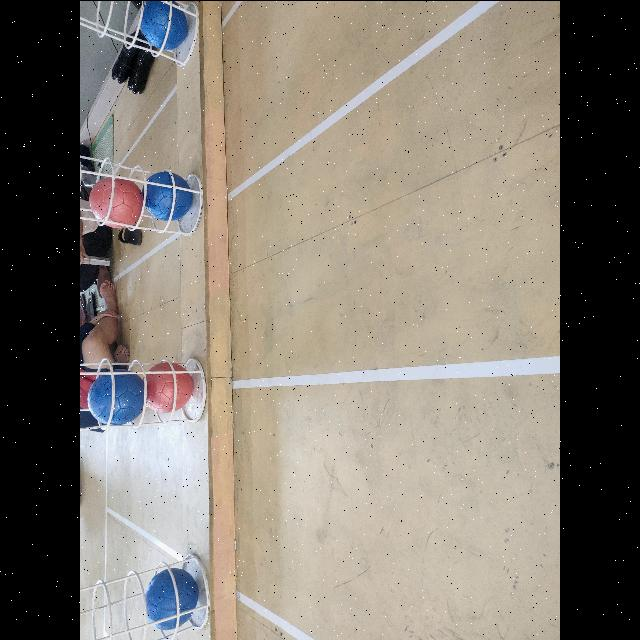B: (144, 568, 198, 630), (88, 368, 146, 424), (143, 171, 193, 221), (141, 0, 189, 48)
R: (88, 176, 144, 228), (143, 361, 193, 411)
